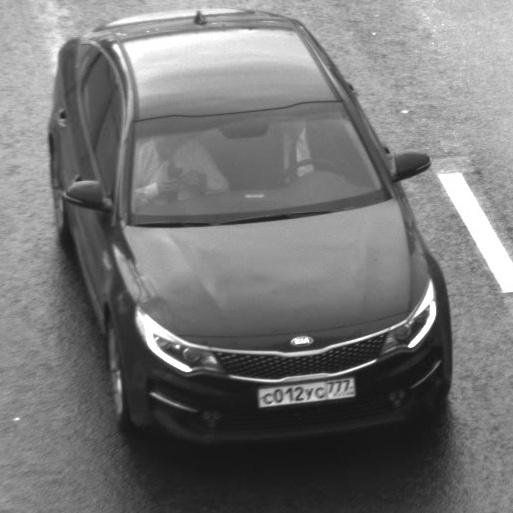plate: (244, 366, 368, 416)
